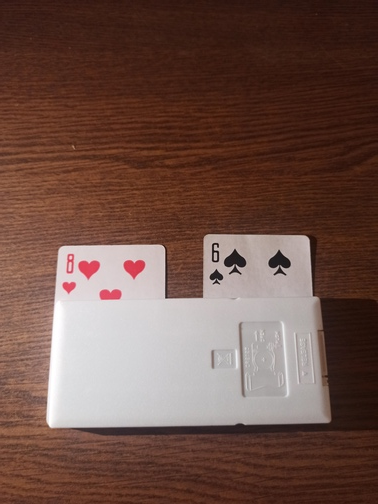eighthearts: (55, 244, 169, 426)
sixspades: (201, 231, 319, 426)
